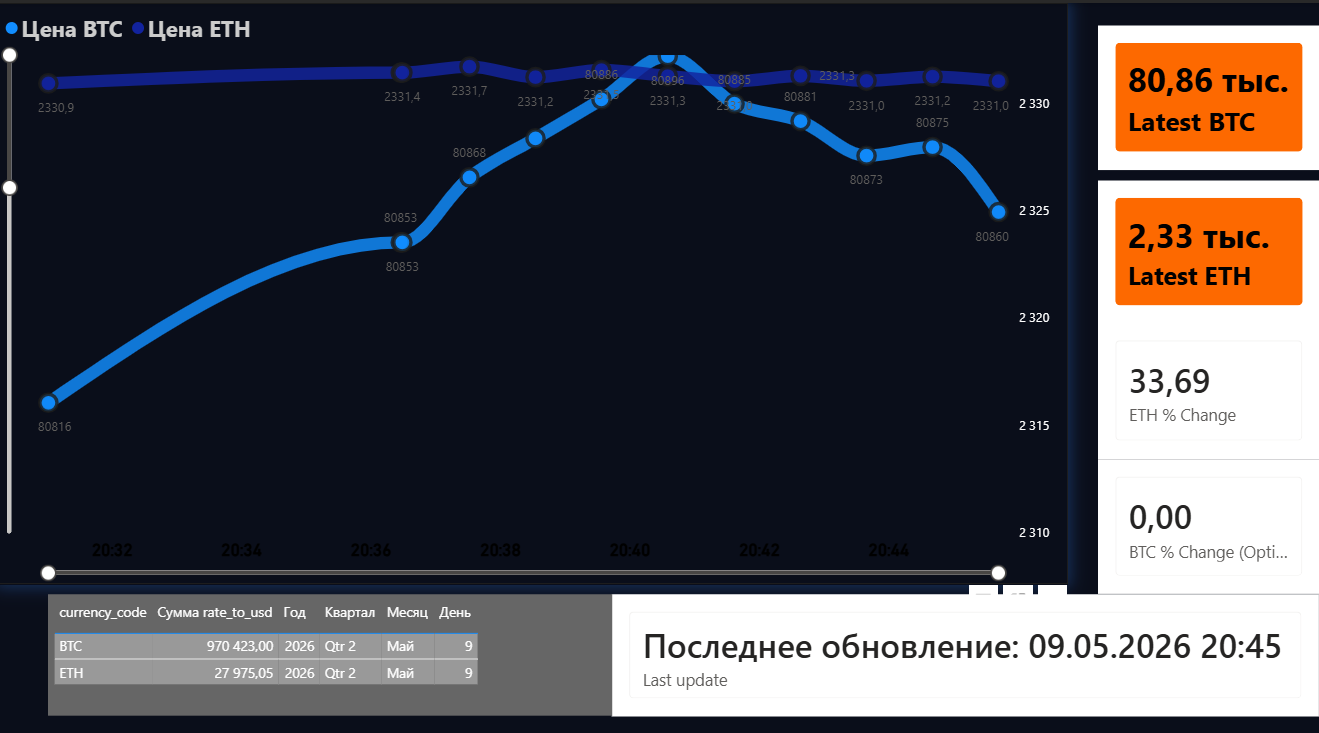

This screenshot's page, from the dashboard's own definition file:
{"tool":"powerbi","page":{"name":"Страница 1","canvas":[1280,720],"ordinal":0},"visuals":[{"type":"lineChart","fields":{"Y":["public api_currency_rates.Цена BTC"],"Y2":["public api_currency_rates.Цена ETH"],"Category":["public api_currency_rates.updated_at"]},"box":[0,0,1036.2,562.9],"z":0},{"type":"cardVisual","fields":{"Data":["public api_currency_rates.Last update"]},"box":[594.4,572.6,685.1,118.6],"z":1000},{"type":"cardVisual","fields":{"Data":["public api_currency_rates.BTC % Change"]},"box":[1064.8,441.9,215.4,130.4],"z":2000},{"type":"cardVisual","fields":{"Data":["public api_currency_rates.Latest BTC"]},"box":[1064.8,22,215.4,140],"z":3000},{"type":"cardVisual","fields":{"Data":["public api_currency_rates.Latest ETH"]},"box":[1064.8,171.5,215.4,138.6],"z":4000},{"type":"cardVisual","fields":{"Data":["public api_currency_rates.ETH % Change"]},"box":[1064.8,310.1,215.4,131.7],"z":5000},{"type":"tableEx","fields":{"Values":["public api_currency_rates.currency_code","Sum(public api_currency_rates.rate_to_usd)","public api_currency_rates.updated_at.Изменение.Иерархия дат.Год","public api_currency_rates.updated_at.Изменение.Иерархия дат.Квартал","public api_currency_rates.updated_at.Изменение.Иерархия дат.Месяц","public api_currency_rates.updated_at.Изменение.Иерархия дат.День"]},"box":[48.5,572.9,546.5,117.9],"z":6000}]}

Visuals, with their boxes in screenshot pixels (x1, y1, x2, y2), scaled from the page's 1280x720 canvas onto the 1319x733 screenshot:
lineChart - public api_currency_rates.Цена BTC x public api_currency_rates.Цена ETH: pyautogui.locateOnScreen(0, 0, 1068, 573)
cardVisual - public api_currency_rates.Last update: pyautogui.locateOnScreen(613, 583, 1318, 704)
cardVisual - public api_currency_rates.BTC % Change: pyautogui.locateOnScreen(1097, 450, 1318, 583)
cardVisual - public api_currency_rates.Latest BTC: pyautogui.locateOnScreen(1097, 22, 1318, 165)
cardVisual - public api_currency_rates.Latest ETH: pyautogui.locateOnScreen(1097, 175, 1318, 316)
cardVisual - public api_currency_rates.ETH % Change: pyautogui.locateOnScreen(1097, 316, 1318, 450)
tableEx - public api_currency_rates.currency_code x Sum(public api_currency_rates.rate_to_usd): pyautogui.locateOnScreen(50, 583, 613, 703)
